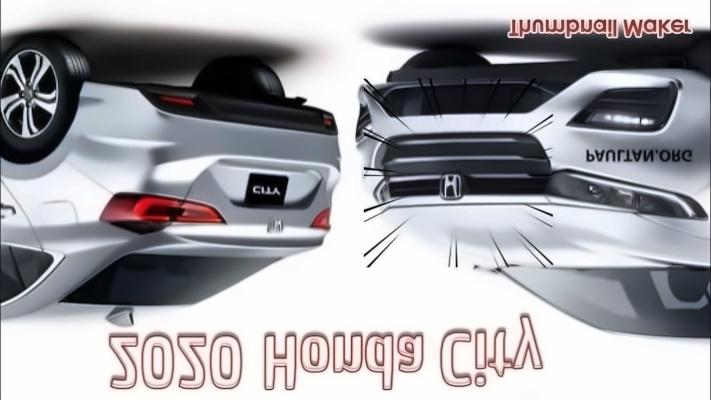Car boot: (152, 148, 339, 261)
Car hood: (359, 206, 711, 273)
Fender - -R-R-: (0, 157, 142, 312)
Front bumper: (357, 63, 711, 198)
Headlight - -R-: (551, 168, 705, 221)
Rear bumper: (61, 73, 347, 173)
Rear light - -R-: (100, 192, 226, 236)
